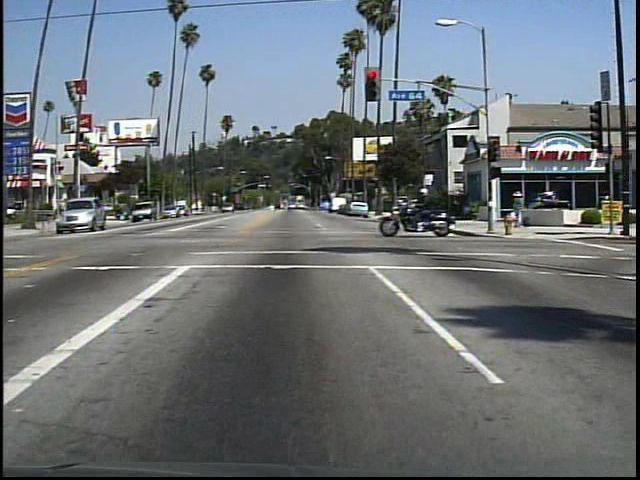person: (410, 189, 444, 233), (509, 185, 529, 224)
